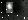person: (7, 3, 14, 14)
